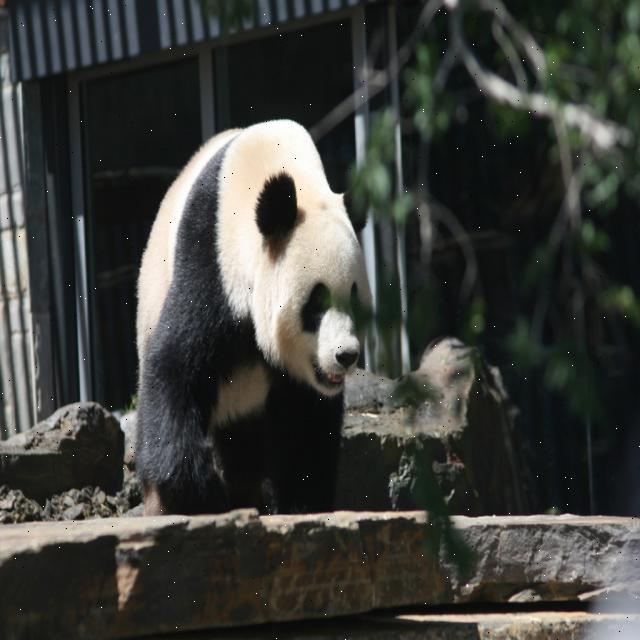panda: (133, 116, 375, 518)
